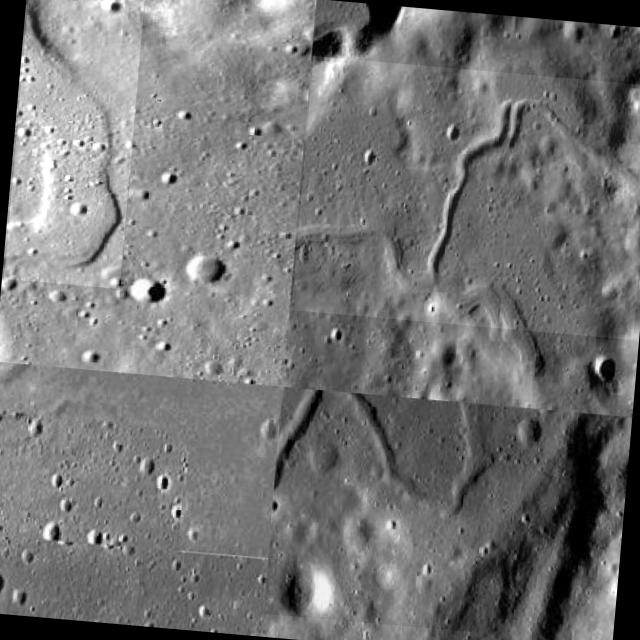crater: (292, 55, 640, 339), (264, 386, 496, 632), (4, 0, 146, 288)
